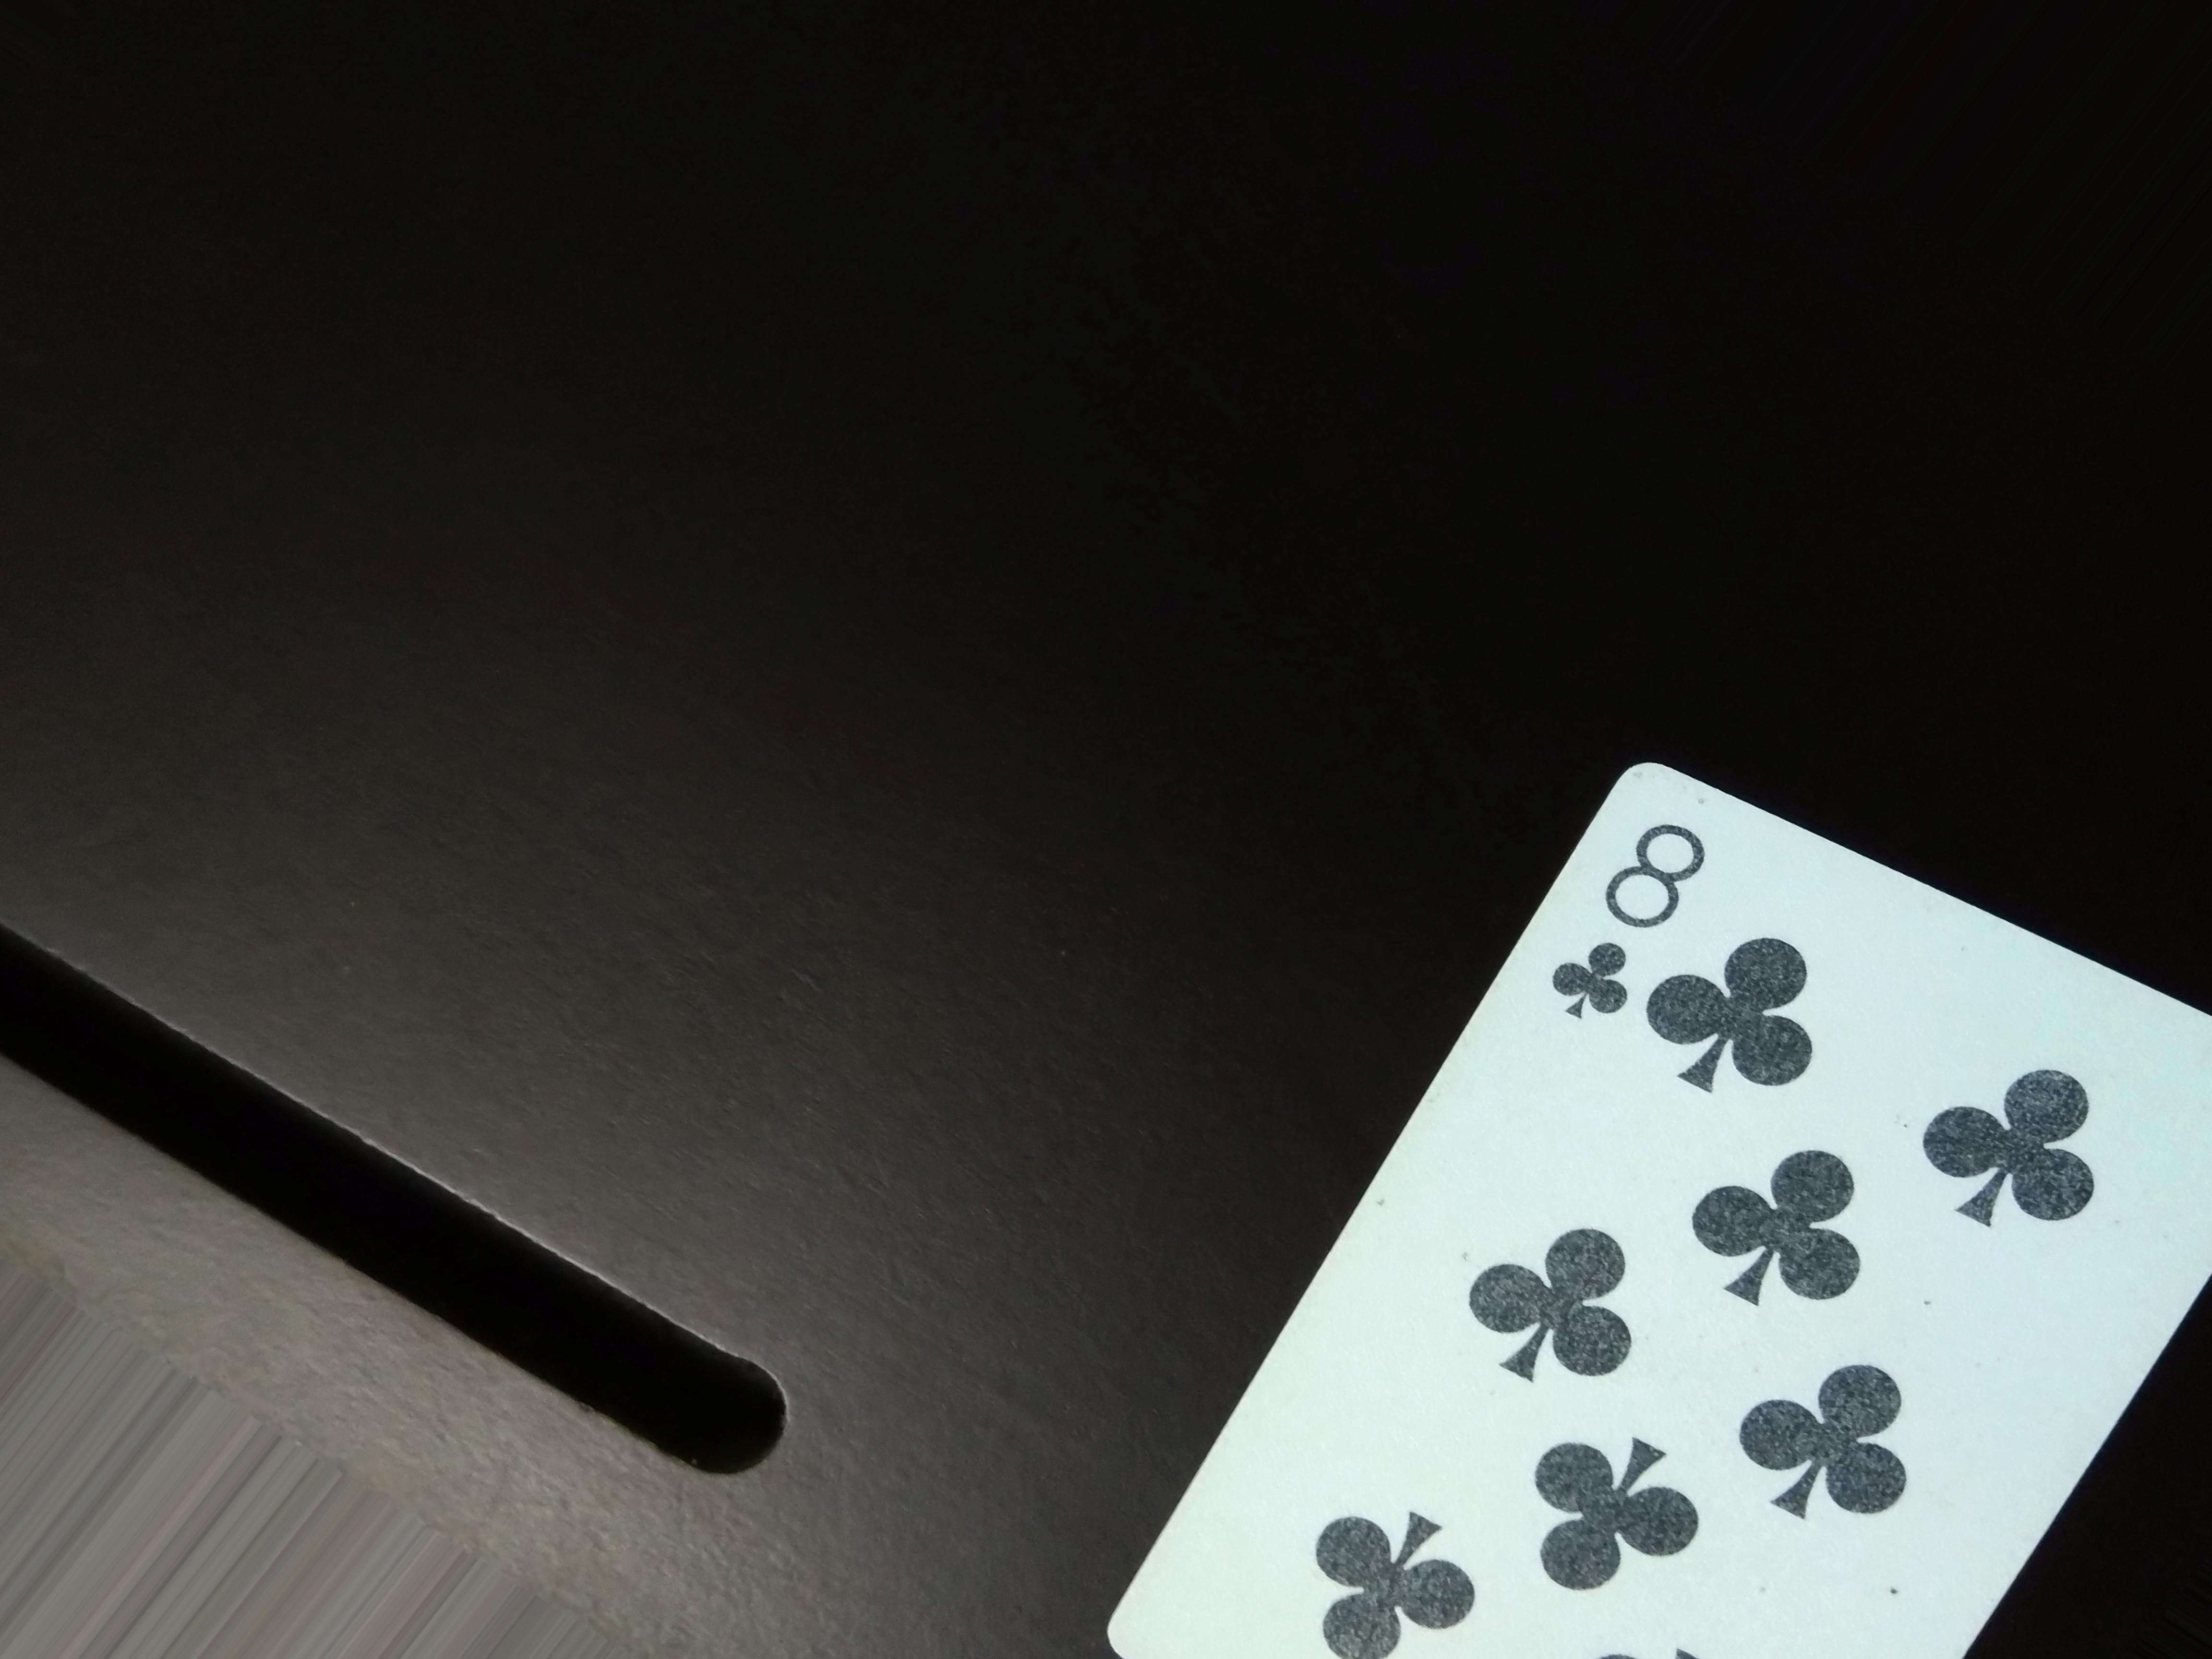8C: (1571, 786, 1717, 1028)
